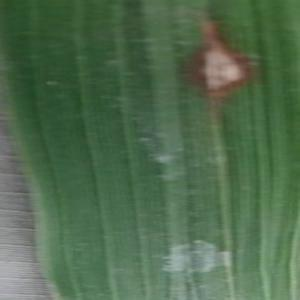1 RiceBlast: (185, 13, 260, 111)
